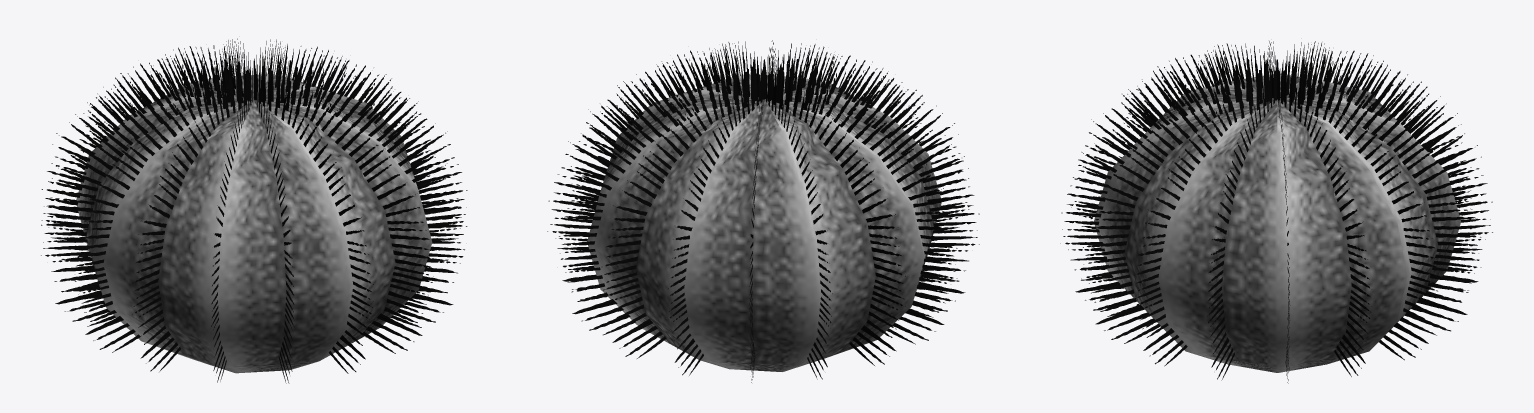
Rendered from urchinWithHairShortBlack.fbx.
3 views of the same model, side by side, from view 1: azimuth 30°, elevation 25°; view 2: azimuth 150°, elevation 25°; view 3: azimuth 270°, elevation 25° (orthographic).
Visible parts, largest first — view 1: urchinWithHairShortBlackObject; view 2: urchinWithHairShortBlackObject; view 3: urchinWithHairShortBlackObject.
Boxes of the visible parts, x1,y1,x2,y2 form: urchinWithHairShortBlackObject: (41,38,467,383); urchinWithHairShortBlackObject: (547,40,979,382); urchinWithHairShortBlackObject: (1060,41,1492,383).
Bounding box in the file's own units: 0.1399 × 0.0963 × 0.1399.
1 material, 1 textured.
